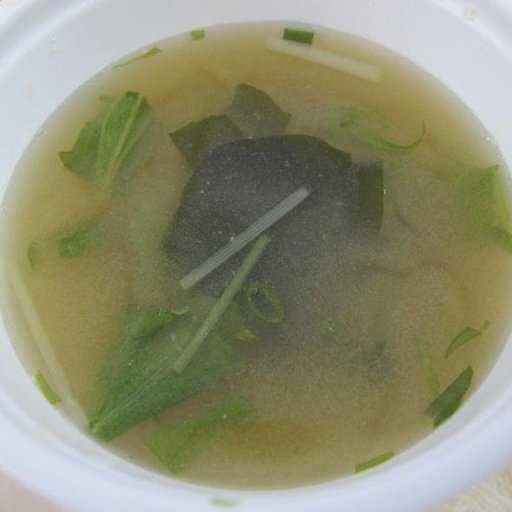soup: (1, 1, 485, 475)
